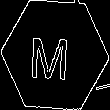M_N: (33, 28, 77, 82)
